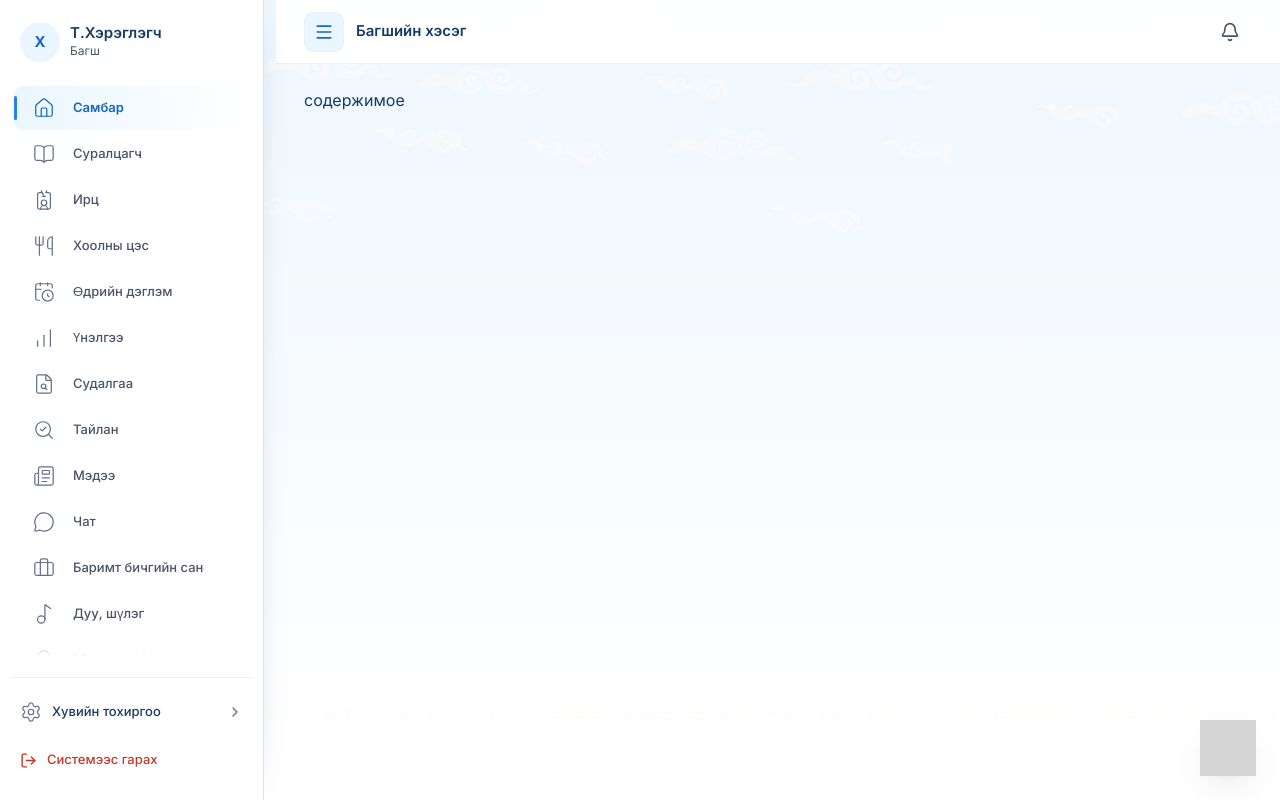
Test: hiding and showing the rail › toggles from one ☰ in the top bar, never from a button on the seam
The width and height of the screenshot is (1280, 800).
Expected: the header named "Хажуугийн цэсийг хаах" is shown, [276,0,1279,64]
Click the button named "Хажуугийн цэсийг хаах" at (324, 32), box [304,12,344,52]
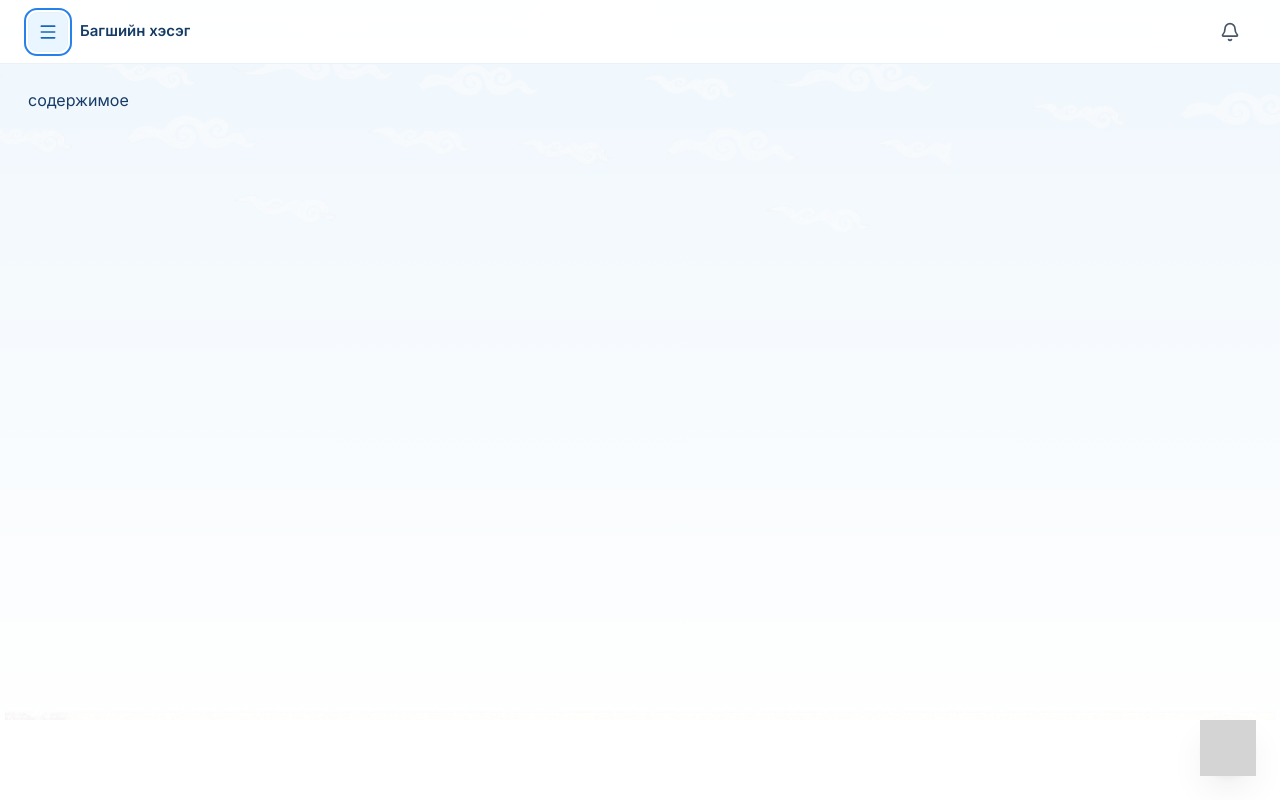
Now the button named "Хажуугийн цэсийг нээх" is collapsed, box [28,12,68,52]
